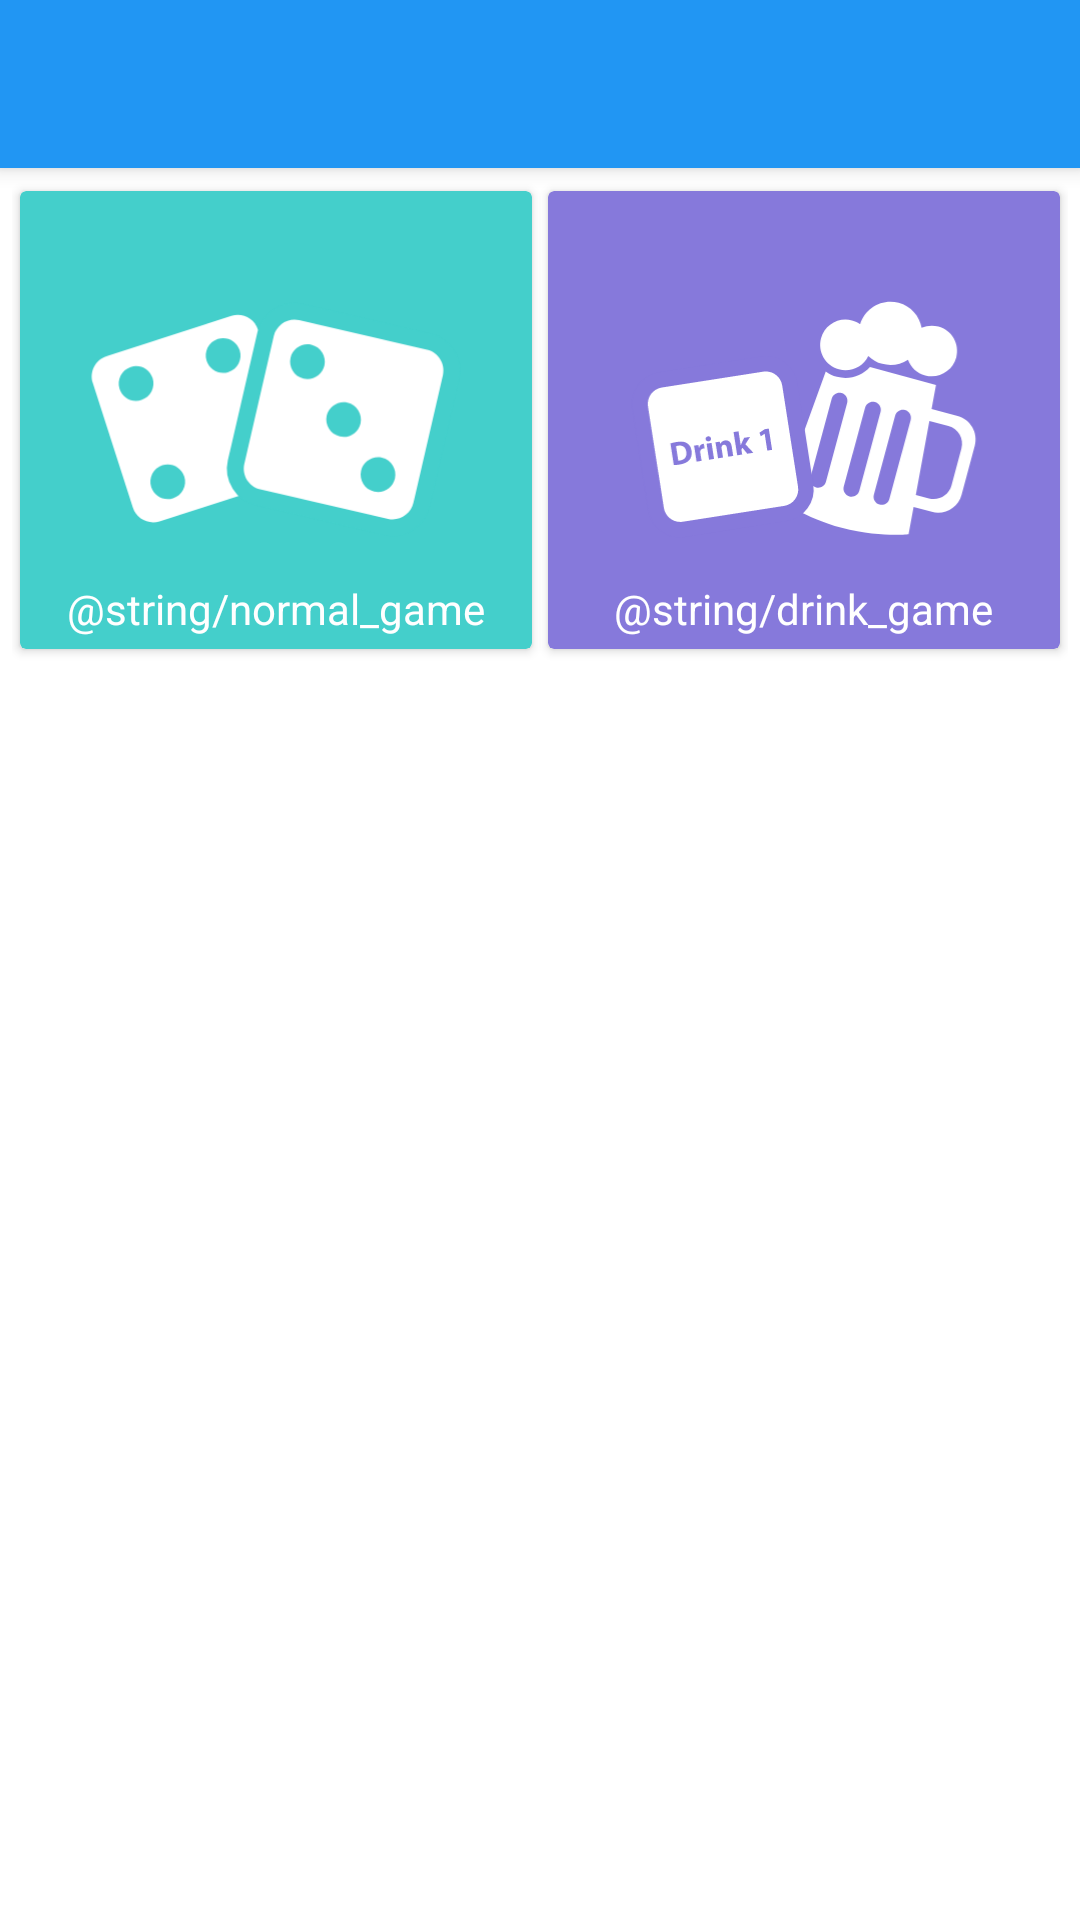

Named icons in this screenshot (1080*1920) and their centers, (x=x, y=y):
dice drink game: (x=811, y=418)
dice game: (x=267, y=418)
